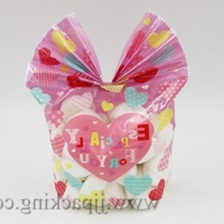snack: (19, 6, 196, 216)
